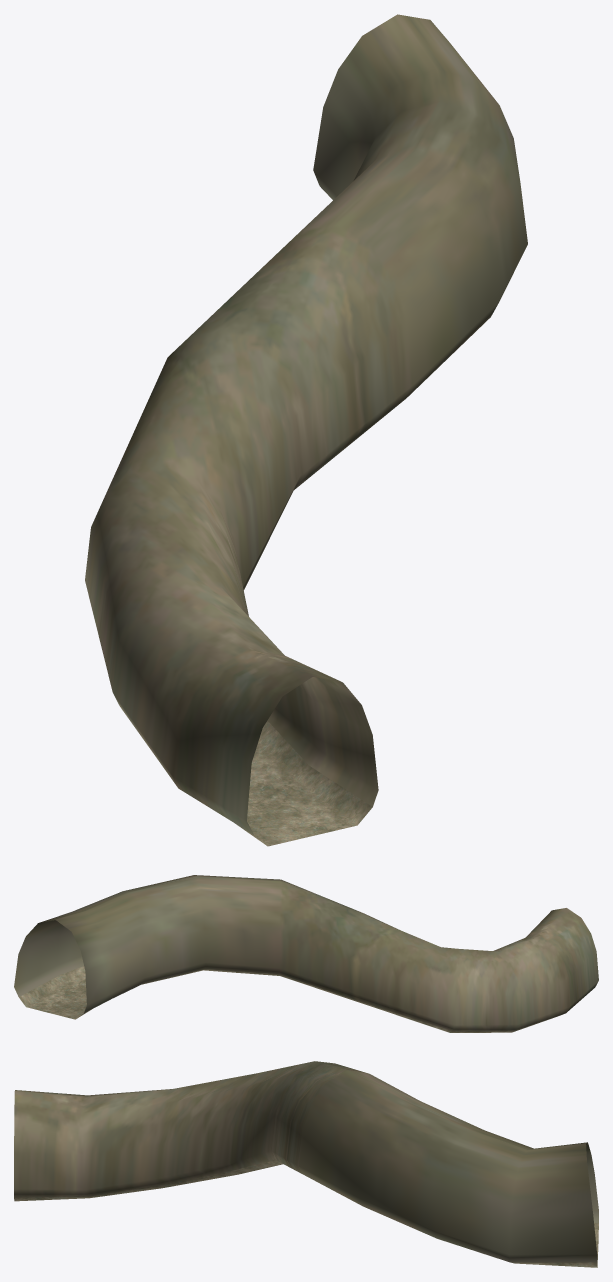
The model's file is OVERHILL_A_01_CM_TUNNEL_09.fbx.
The picture shows the model from 3 angles, top to bottom: view 1: azimuth 30°, elevation 25°; view 2: azimuth 150°, elevation 25°; view 3: azimuth 270°, elevation 25°; orthographic projection. The views are drawn at different scales.
Visible parts, largest first — view 1: OVERHILL_A_01_CM_TUNNEL_09; view 2: OVERHILL_A_01_CM_TUNNEL_09; view 3: OVERHILL_A_01_CM_TUNNEL_09.
Part boxes in pixels (box(x1,y1,x2,y2)): OVERHILL_A_01_CM_TUNNEL_09: box(85, 14, 527, 846); OVERHILL_A_01_CM_TUNNEL_09: box(14, 875, 598, 1032); OVERHILL_A_01_CM_TUNNEL_09: box(14, 1061, 598, 1267).
Bounding box in the file's own units: 151539 × 72531 × 180099.
Materials: 1 (1 with a texture image).
